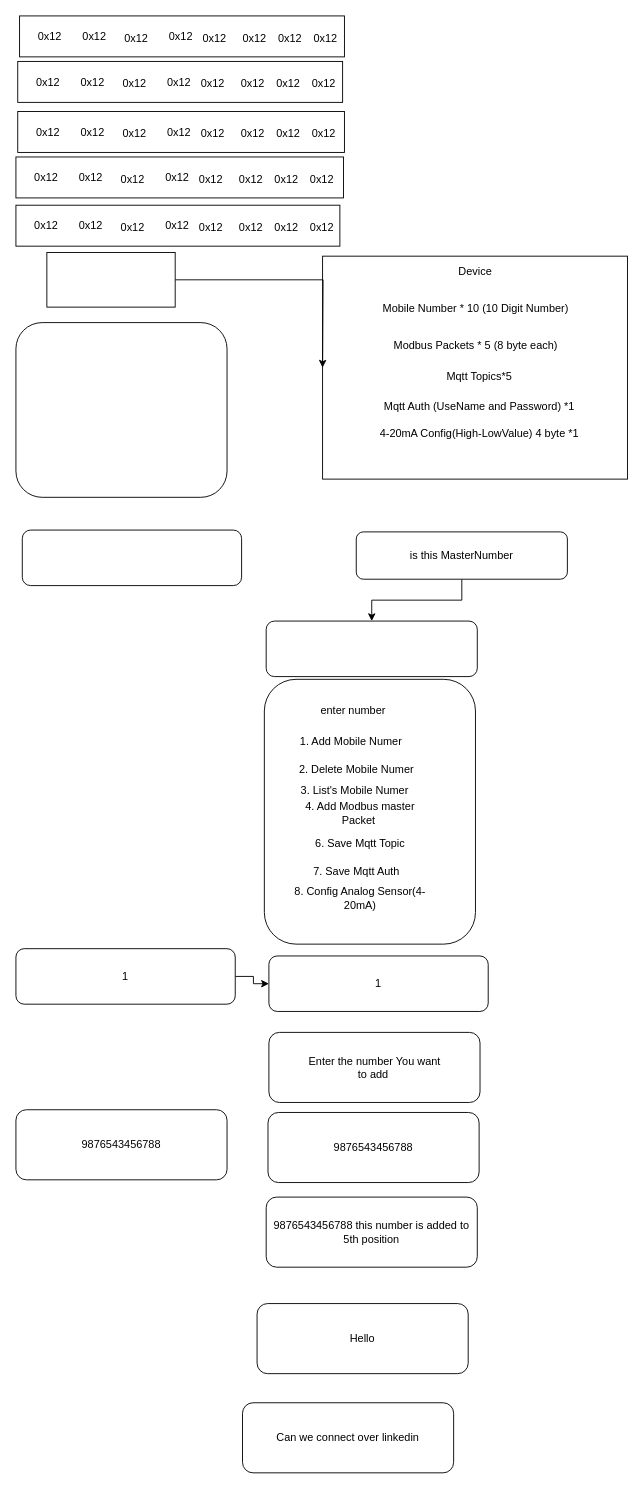
Some shapes in this 643 by 1489 pixel diagram are drawn without their labels. The centre of each missing label's shape, as x and y in pixels:
"Config" goes at point (121, 409).
"Config-pin" goes at point (131, 557).
"It send Config" goes at point (371, 648).
"Mobile phone" goes at point (110, 279).
